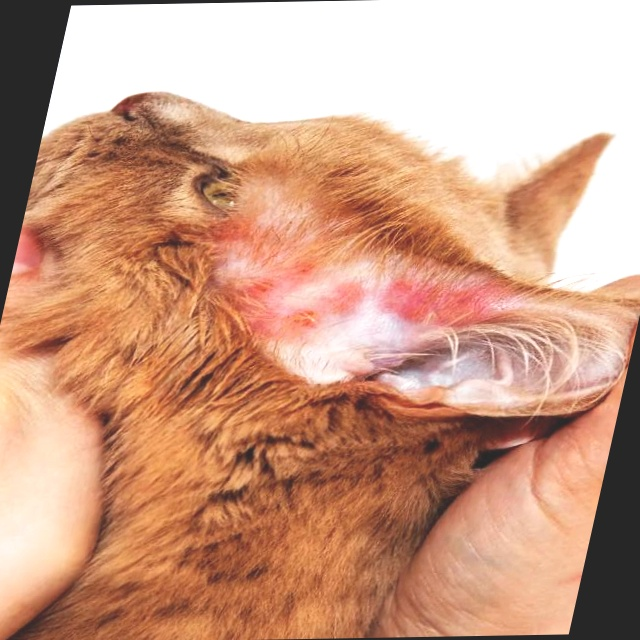ringworm: (199, 211, 483, 335)
